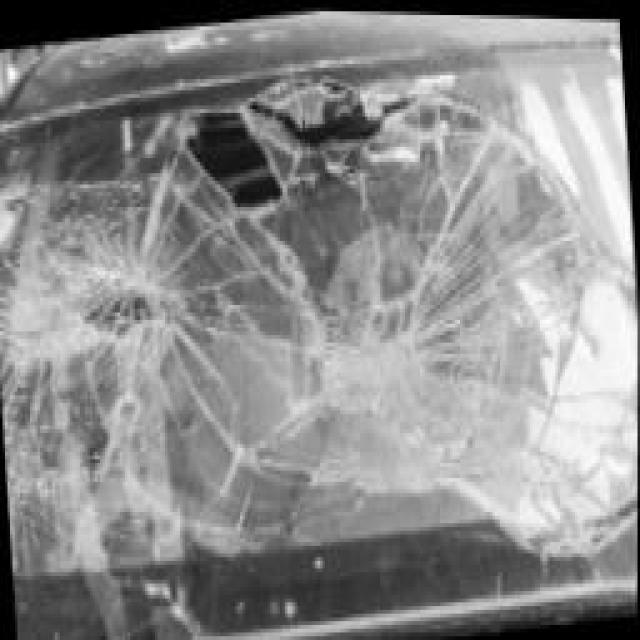Windshield: (0, 23, 640, 640)
